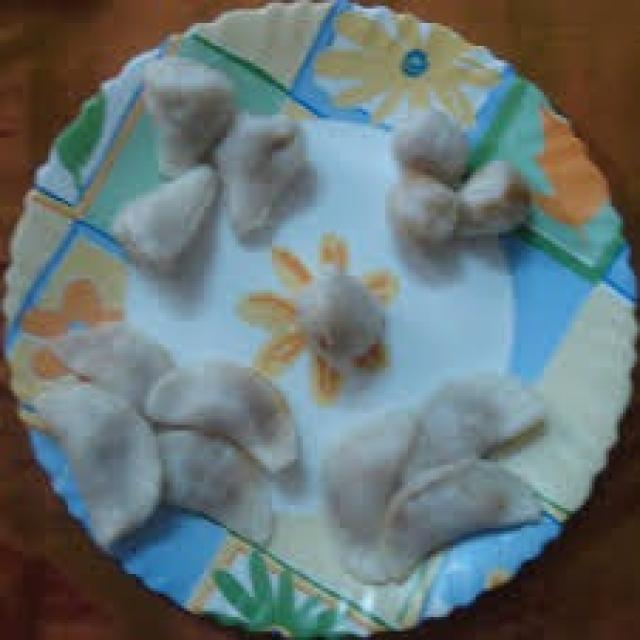poorna kolukattai: (22, 37, 566, 593)
